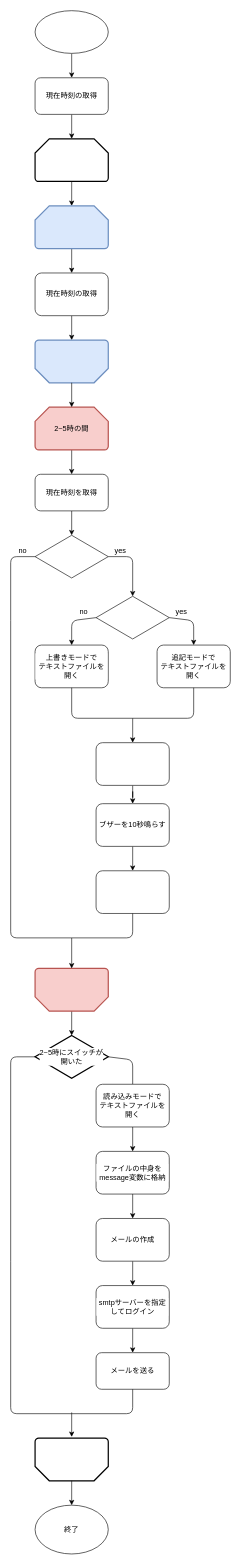
Some shapes in this 241 by 1565 pixel diagram are drawn without their labels. The box of each missing label's shape, as (x1, y1, x2, y2) in pixels:
1, 3~24時の間: (34, 205, 109, 249)
while 1: (34, 138, 109, 182)
スイッチが 開いている: (34, 535, 108, 578)
テキストファイルへ時刻と冷蔵庫が開いたことを書きこむ: (95, 742, 169, 785)
ファイルを閉じる: (95, 870, 169, 913)
過去にスイッチが 反応している: (95, 596, 169, 639)
開始: (34, 10, 108, 53)
